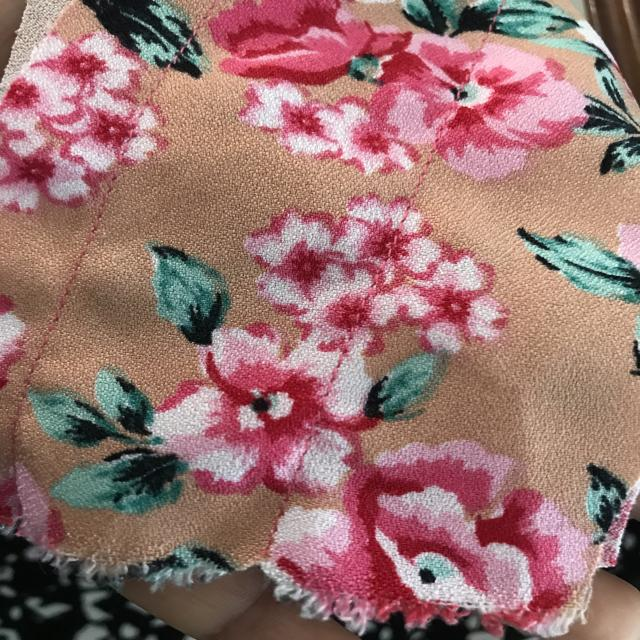good: (81, 190, 126, 268)
